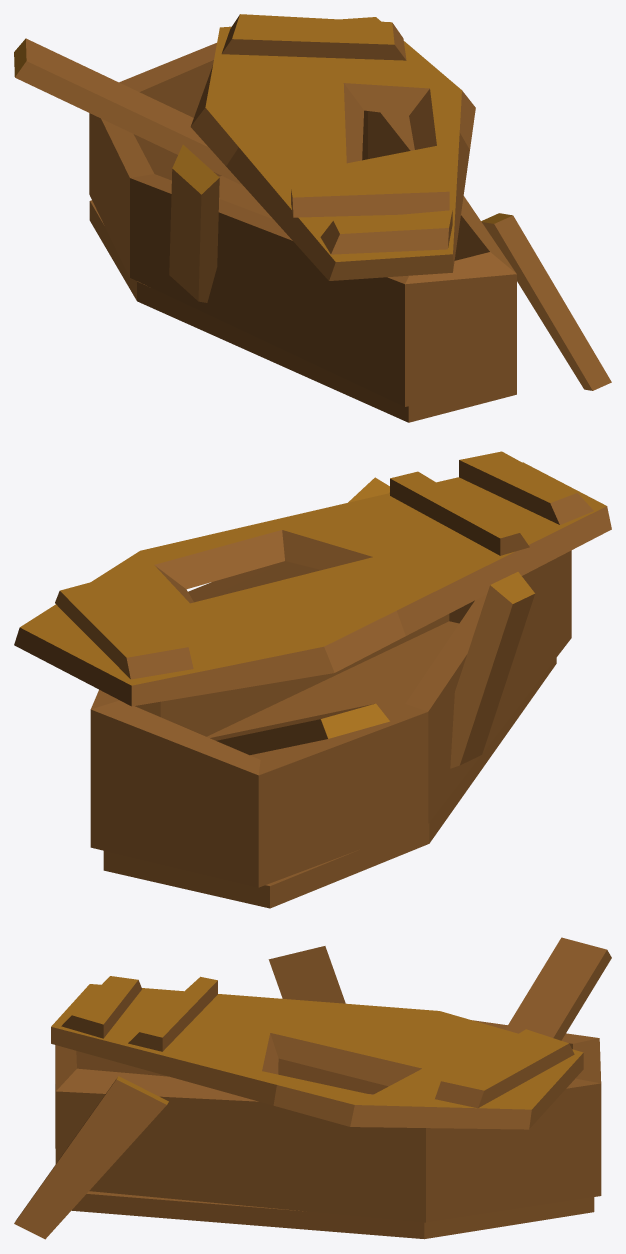
File: caixao_quatro_001.fbx
3 renders of one model, top to bottom at view 1: azimuth 30°, elevation 25°; view 2: azimuth 150°, elevation 25°; view 3: azimuth 270°, elevation 25°, orthographic. The views are drawn at different scales.
Visible parts, largest first — view 1: caixao_quatro.001; view 2: caixao_quatro.001; view 3: caixao_quatro.001.
Part boxes in pixels (bbox=[...]): caixao_quatro.001: bbox=[14, 14, 611, 422]; caixao_quatro.001: bbox=[14, 451, 611, 908]; caixao_quatro.001: bbox=[14, 937, 611, 1239].
Size of the model in its own units: 230 by 122 by 370.
